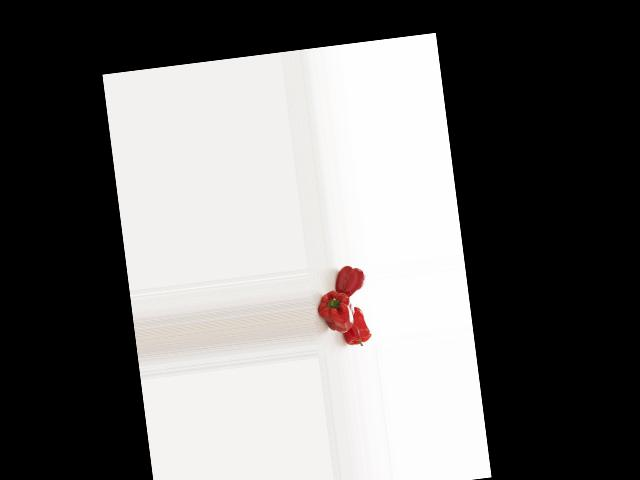bell_pepper: (331, 262, 367, 296)
